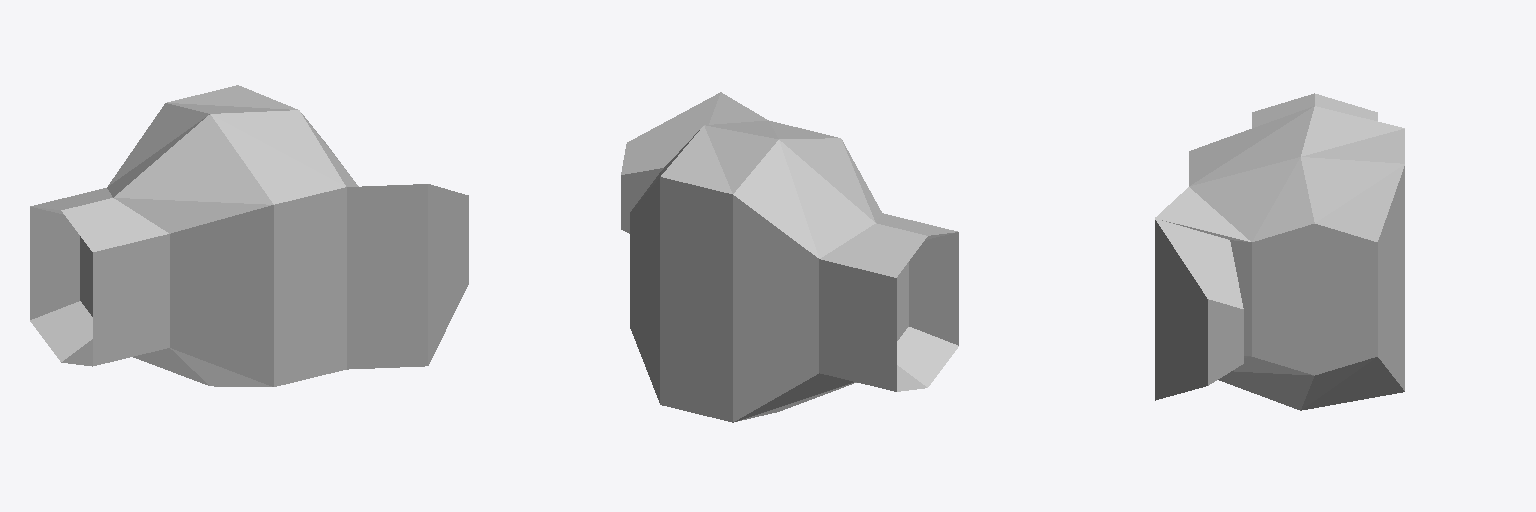
Rendered from miner.obj.
3 views of the same model, side by side, from view 1: azimuth 30°, elevation 25°; view 2: azimuth 150°, elevation 25°; view 3: azimuth 270°, elevation 25° (orthographic).
Parts seen in each view (by area): view 1: Cube; view 2: Cube; view 3: Cube.
Part boxes in pixels (bbox=[...]): Cube: bbox=[30, 85, 468, 386]; Cube: bbox=[621, 92, 958, 422]; Cube: bbox=[1155, 93, 1404, 410].
Size of the model in its own units: 2.46 by 1.81 by 1.51.